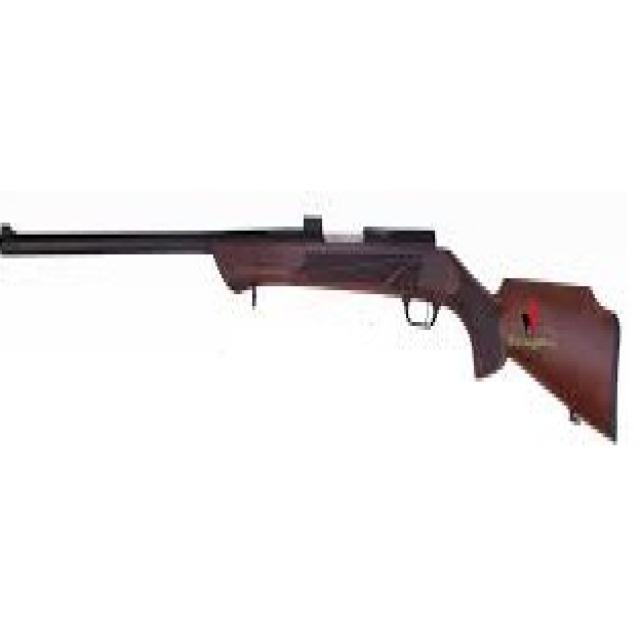rifle: (1, 202, 626, 472)
